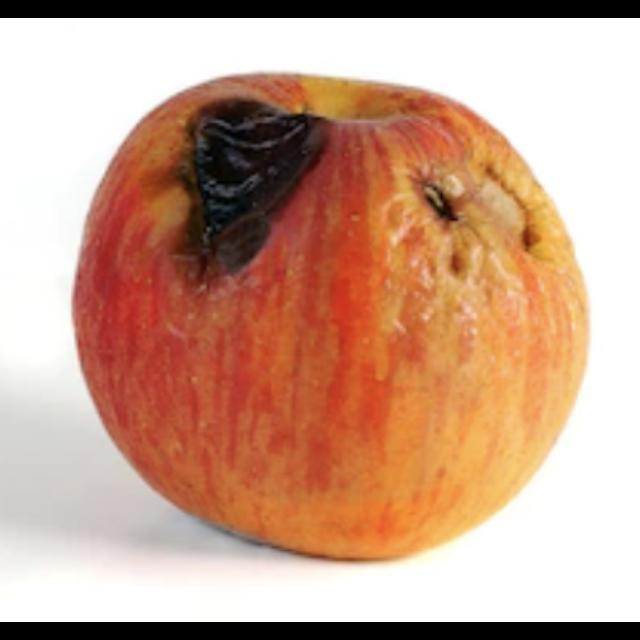Apel Tidak Segar: (21, 42, 604, 576)
